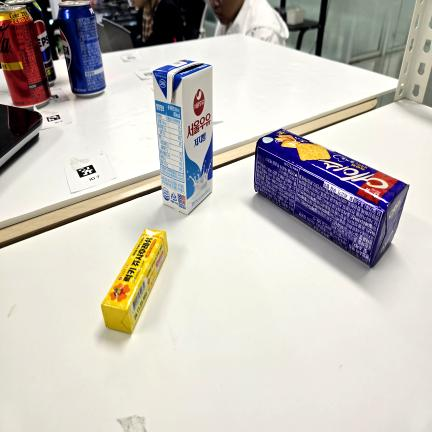cracker_ace: (254, 129, 409, 267)
gum_yellow: (101, 229, 168, 333)
milk_blue: (153, 60, 214, 214)
